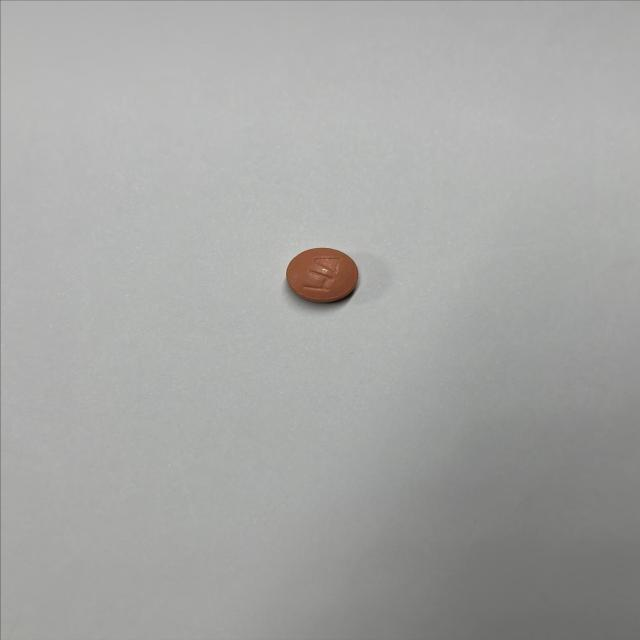Piller: (287, 248, 358, 302)
